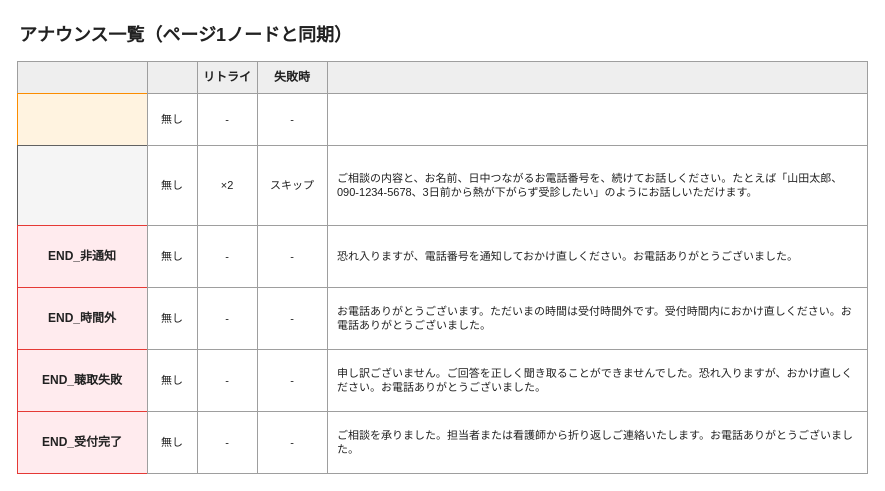
This 885x491 diagram has some shape labels left out. Each missing label, with the centre of its shape:
お電話ありがとうございます。{施設名}の受診相談AI電話です。: (597,119)
冒頭_アナウンス: (82,119)
復唱: (172,77)
発話文言: (597,77)
相談内容聴取: (82,185)
聴取項目: (82,77)
